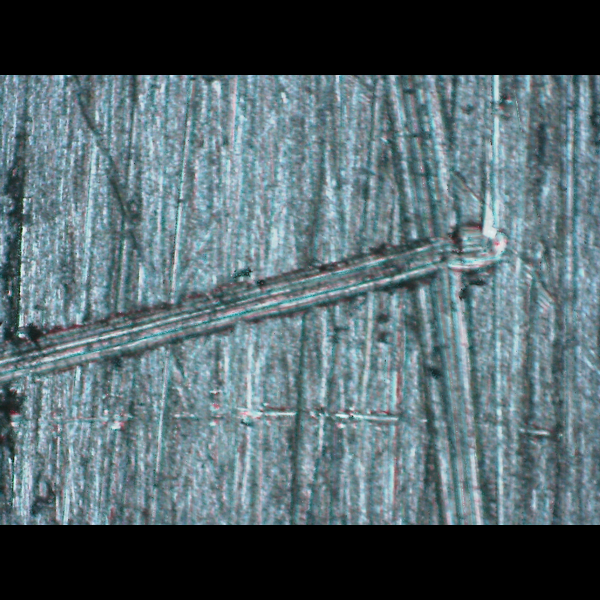d: (0, 210, 518, 421)
